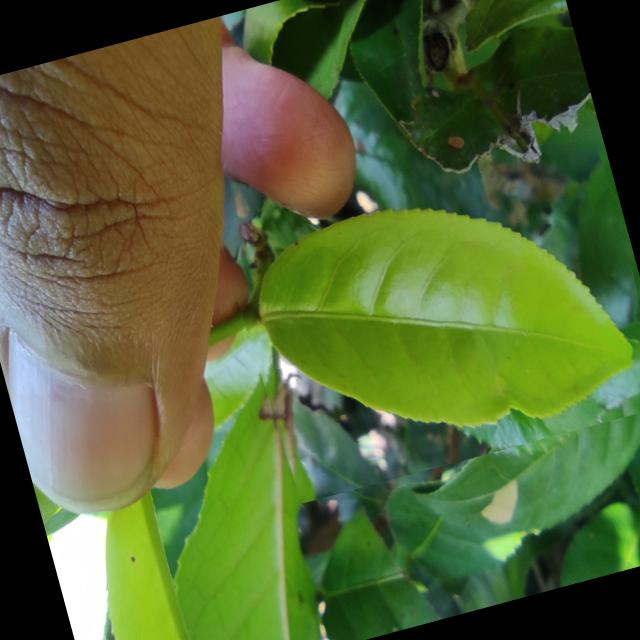Category C(4-7 days): (208, 107, 640, 506)
